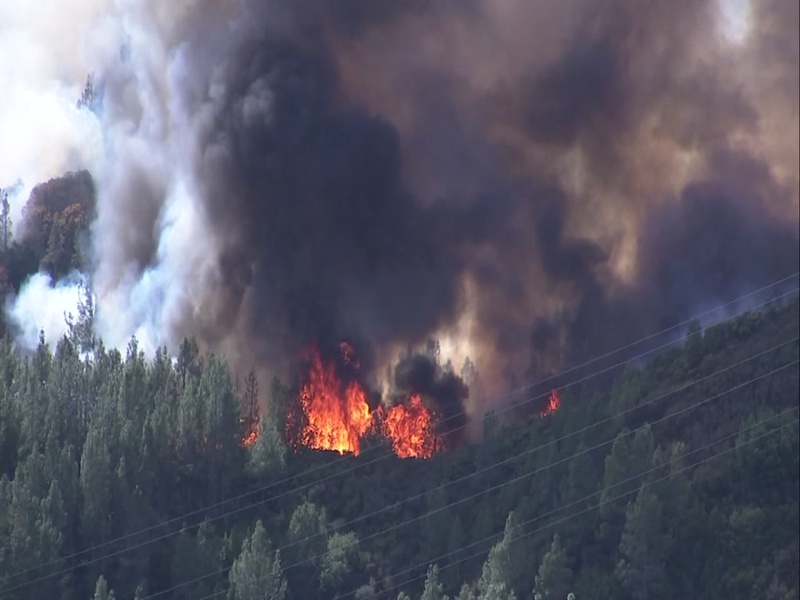fire: (290, 343, 371, 463), (385, 395, 441, 467), (239, 417, 263, 457), (544, 383, 563, 417)
